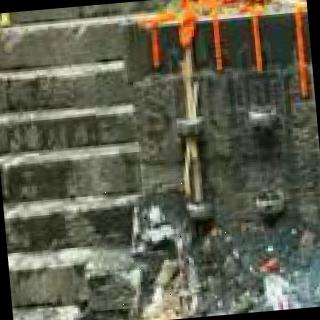fire: (239, 0, 306, 5)
